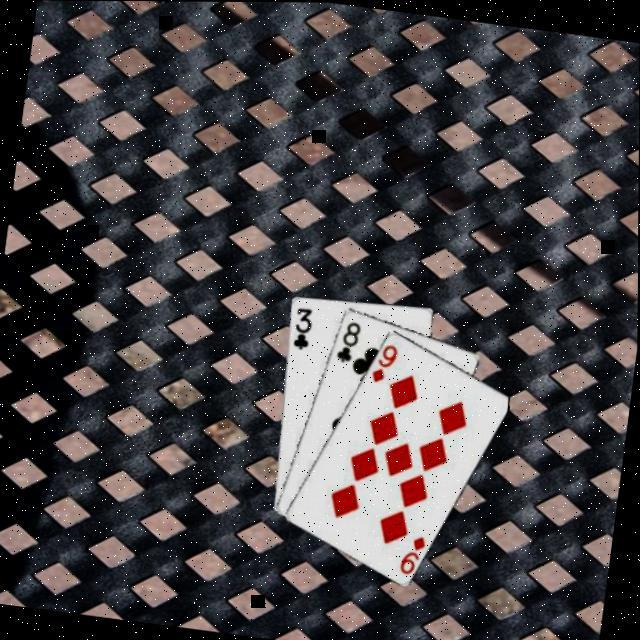3C: (287, 303, 315, 352)
8C: (331, 316, 363, 366)
9D: (366, 338, 399, 386), (395, 530, 428, 578)
